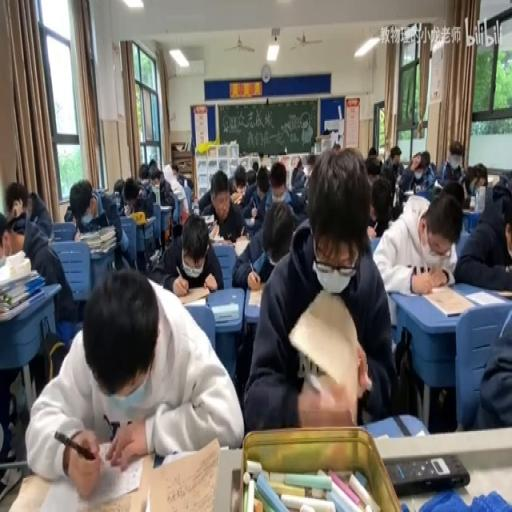calculator: (144, 436, 221, 512), (0, 253, 45, 320), (176, 286, 209, 306), (210, 300, 238, 322), (464, 289, 503, 304), (246, 287, 264, 307), (234, 235, 250, 256), (91, 210, 108, 229), (170, 183, 186, 202), (210, 233, 232, 246), (413, 186, 432, 200), (148, 248, 160, 268), (208, 222, 219, 240), (486, 174, 499, 186), (462, 205, 476, 213), (202, 213, 214, 222), (143, 216, 155, 225), (398, 160, 408, 170), (244, 216, 254, 225), (192, 200, 198, 214), (434, 179, 442, 188), (404, 189, 414, 196), (294, 191, 302, 199), (183, 176, 187, 186)
paper: (26, 264, 242, 490), (245, 146, 398, 434), (372, 186, 461, 322), (454, 172, 512, 293), (64, 175, 128, 282), (470, 294, 511, 430), (189, 169, 246, 245), (2, 180, 53, 254), (243, 162, 276, 225), (144, 159, 177, 219), (369, 175, 397, 237), (285, 156, 310, 219), (402, 148, 436, 192), (441, 139, 466, 185), (306, 152, 330, 196), (383, 144, 403, 180), (441, 180, 465, 208), (364, 153, 382, 185), (231, 165, 247, 198), (123, 179, 139, 206), (270, 162, 286, 188), (171, 164, 187, 188), (112, 176, 125, 205), (197, 188, 212, 213), (474, 164, 486, 188), (392, 180, 402, 208), (138, 164, 150, 186), (464, 178, 476, 199), (179, 195, 189, 220), (245, 168, 255, 186), (260, 154, 270, 170), (258, 179, 267, 196), (290, 155, 300, 169), (148, 156, 157, 170), (366, 145, 376, 157), (151, 174, 161, 184), (331, 142, 341, 151), (252, 160, 258, 170), (393, 162, 398, 174)
person: (384, 452, 467, 494)
